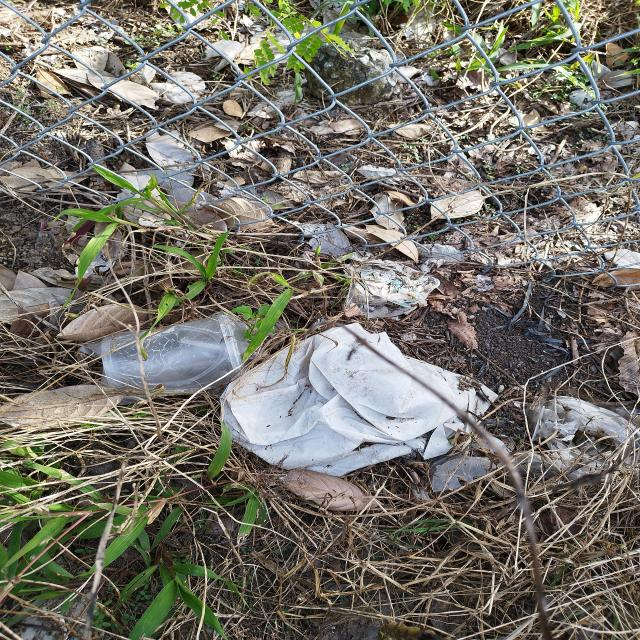bag: (221, 324, 497, 476)
plastic glass: (102, 314, 246, 390)
